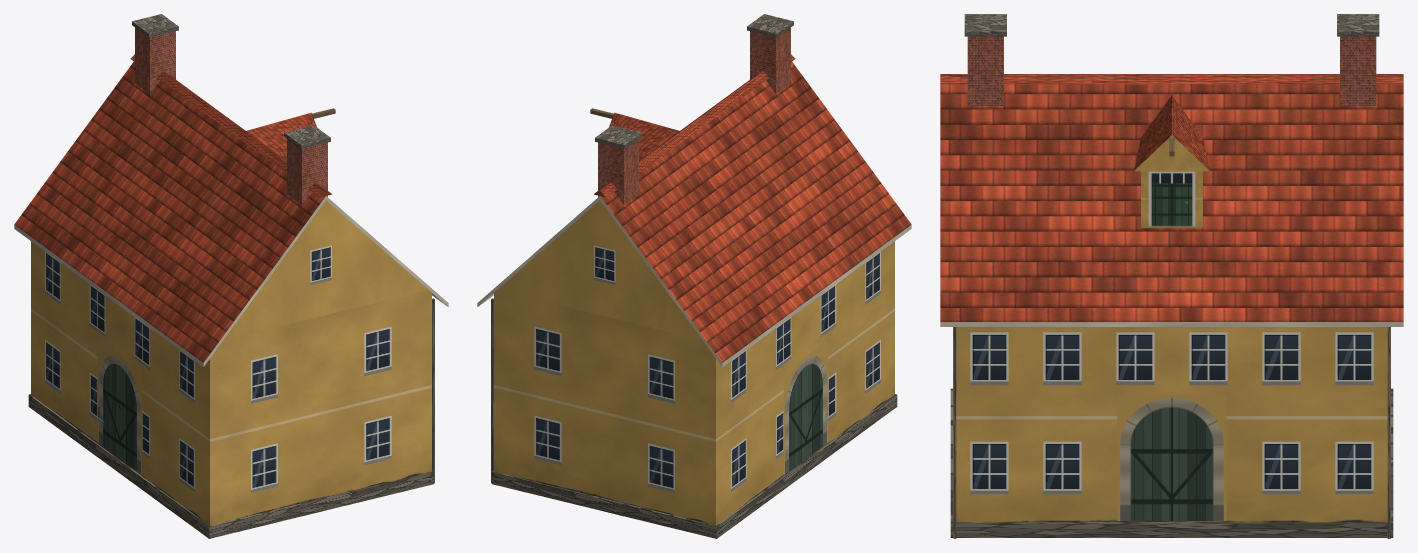
File: SM_MerchantHouse.fbx
3 renders of one model, left to right at view 1: azimuth 30°, elevation 25°; view 2: azimuth 150°, elevation 25°; view 3: azimuth 270°, elevation 25°, orthographic. The views are drawn at different scales.
Parts seen in each view (by area): view 1: SM_MerchantHouse; view 2: SM_MerchantHouse; view 3: SM_MerchantHouse.
Part boxes in pixels (x1,y1,x2,y2): SM_MerchantHouse: [14, 14, 448, 538]; SM_MerchantHouse: [477, 14, 911, 538]; SM_MerchantHouse: [940, 14, 1403, 538].
Bounding box in the file's own units: 950 × 1270 × 1354.
1 material, 1 textured.
